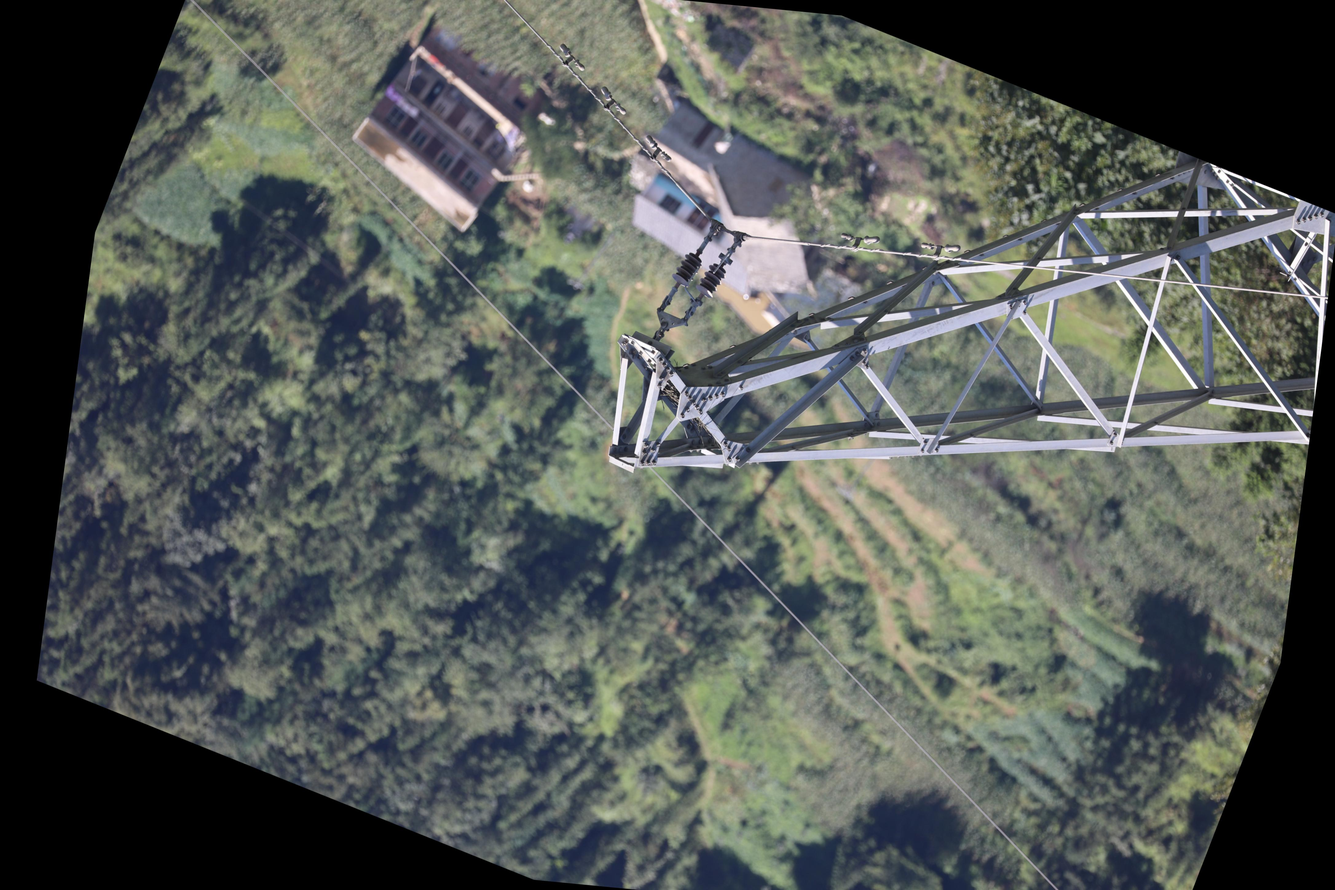damper: (833, 220, 885, 262), (914, 228, 965, 270), (590, 82, 636, 122), (634, 131, 680, 171), (549, 39, 594, 78)
